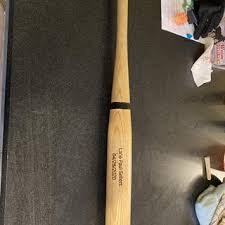bat: (103, 2, 134, 225)
